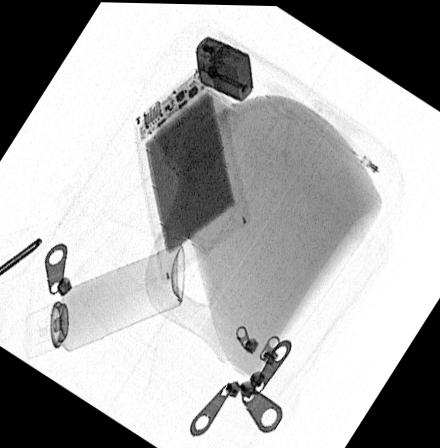Lighter: (194, 34, 253, 100)
Powerbank: (133, 56, 249, 282)
Sprayer: (21, 240, 185, 360)
